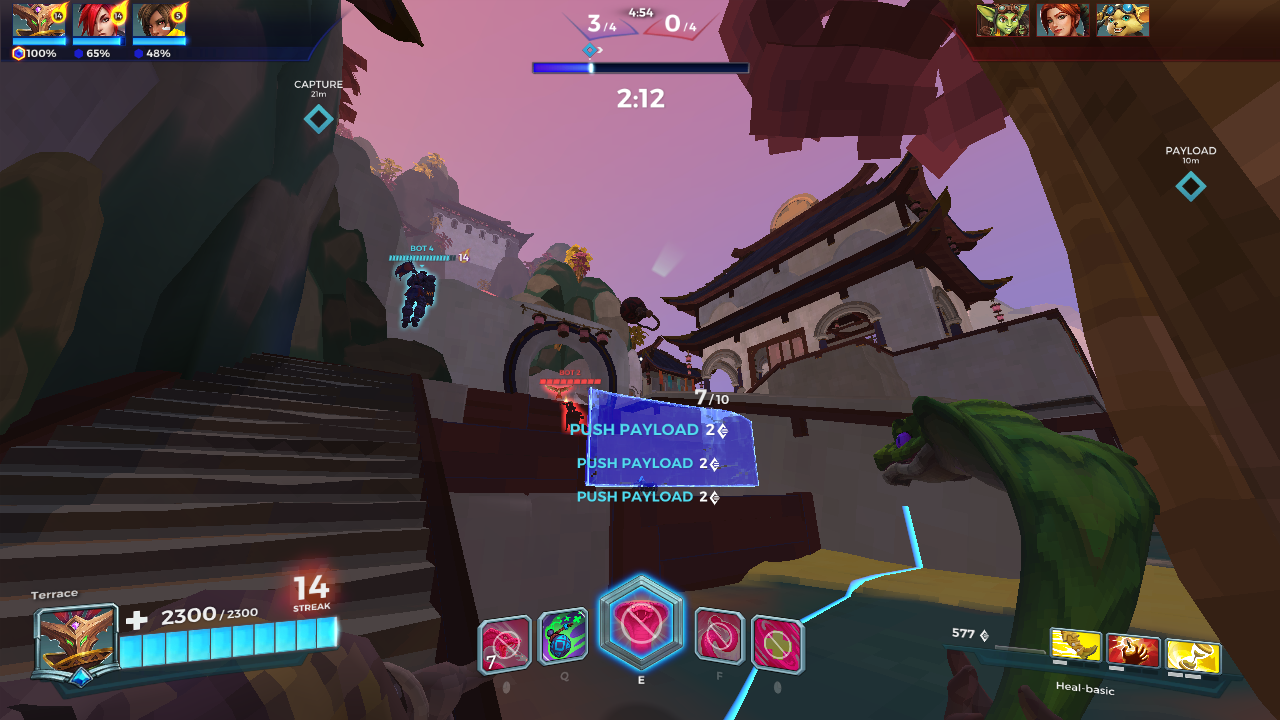model: (556, 397, 584, 429)
